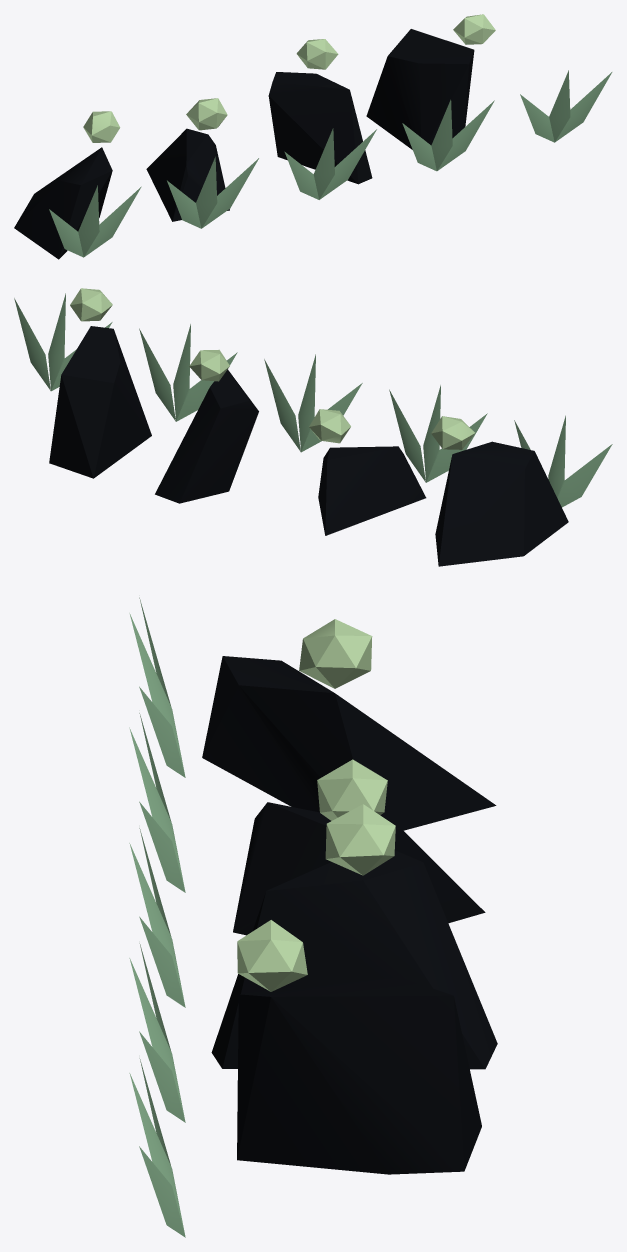
The model's file is tt_gym_moss_berm.glb.
3 renders of one model, top to bottom at view 1: azimuth 30°, elevation 25°; view 2: azimuth 150°, elevation 25°; view 3: azimuth 270°, elevation 25°, orthographic. The views are drawn at different scales.
Visible parts, largest first — view 1: Boulders, Fern_Fronds, Moss_Cushions; view 2: Boulders, Fern_Fronds, Moss_Cushions; view 3: Boulders, Moss_Cushions, Fern_Fronds.
Part boxes in pixels (box(x1,y1,x2,y2)): Boulders: box(14, 29, 474, 259); Fern_Fronds: box(49, 70, 612, 257); Moss_Cushions: box(83, 14, 495, 142); Boulders: box(49, 326, 568, 566); Fern_Fronds: box(14, 293, 612, 507); Moss_Cushions: box(70, 288, 474, 449); Boulders: box(202, 656, 497, 1174); Moss_Cushions: box(237, 619, 395, 991); Fern_Fronds: box(129, 597, 185, 1237).
Size of what is drawn, in the model's own units: 2.04 by 0.4331 by 0.576.
3 materials, 1 textured.
